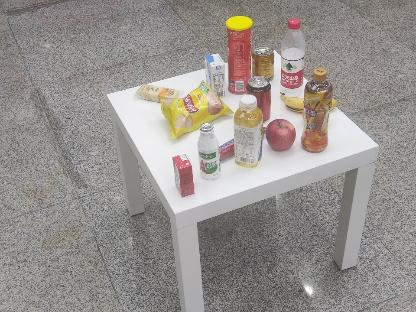Can: (245, 76, 272, 120), (252, 45, 275, 81)
Others: (225, 14, 252, 94), (168, 152, 198, 198), (204, 50, 226, 100)
Plastic Bottle: (281, 16, 306, 98)
